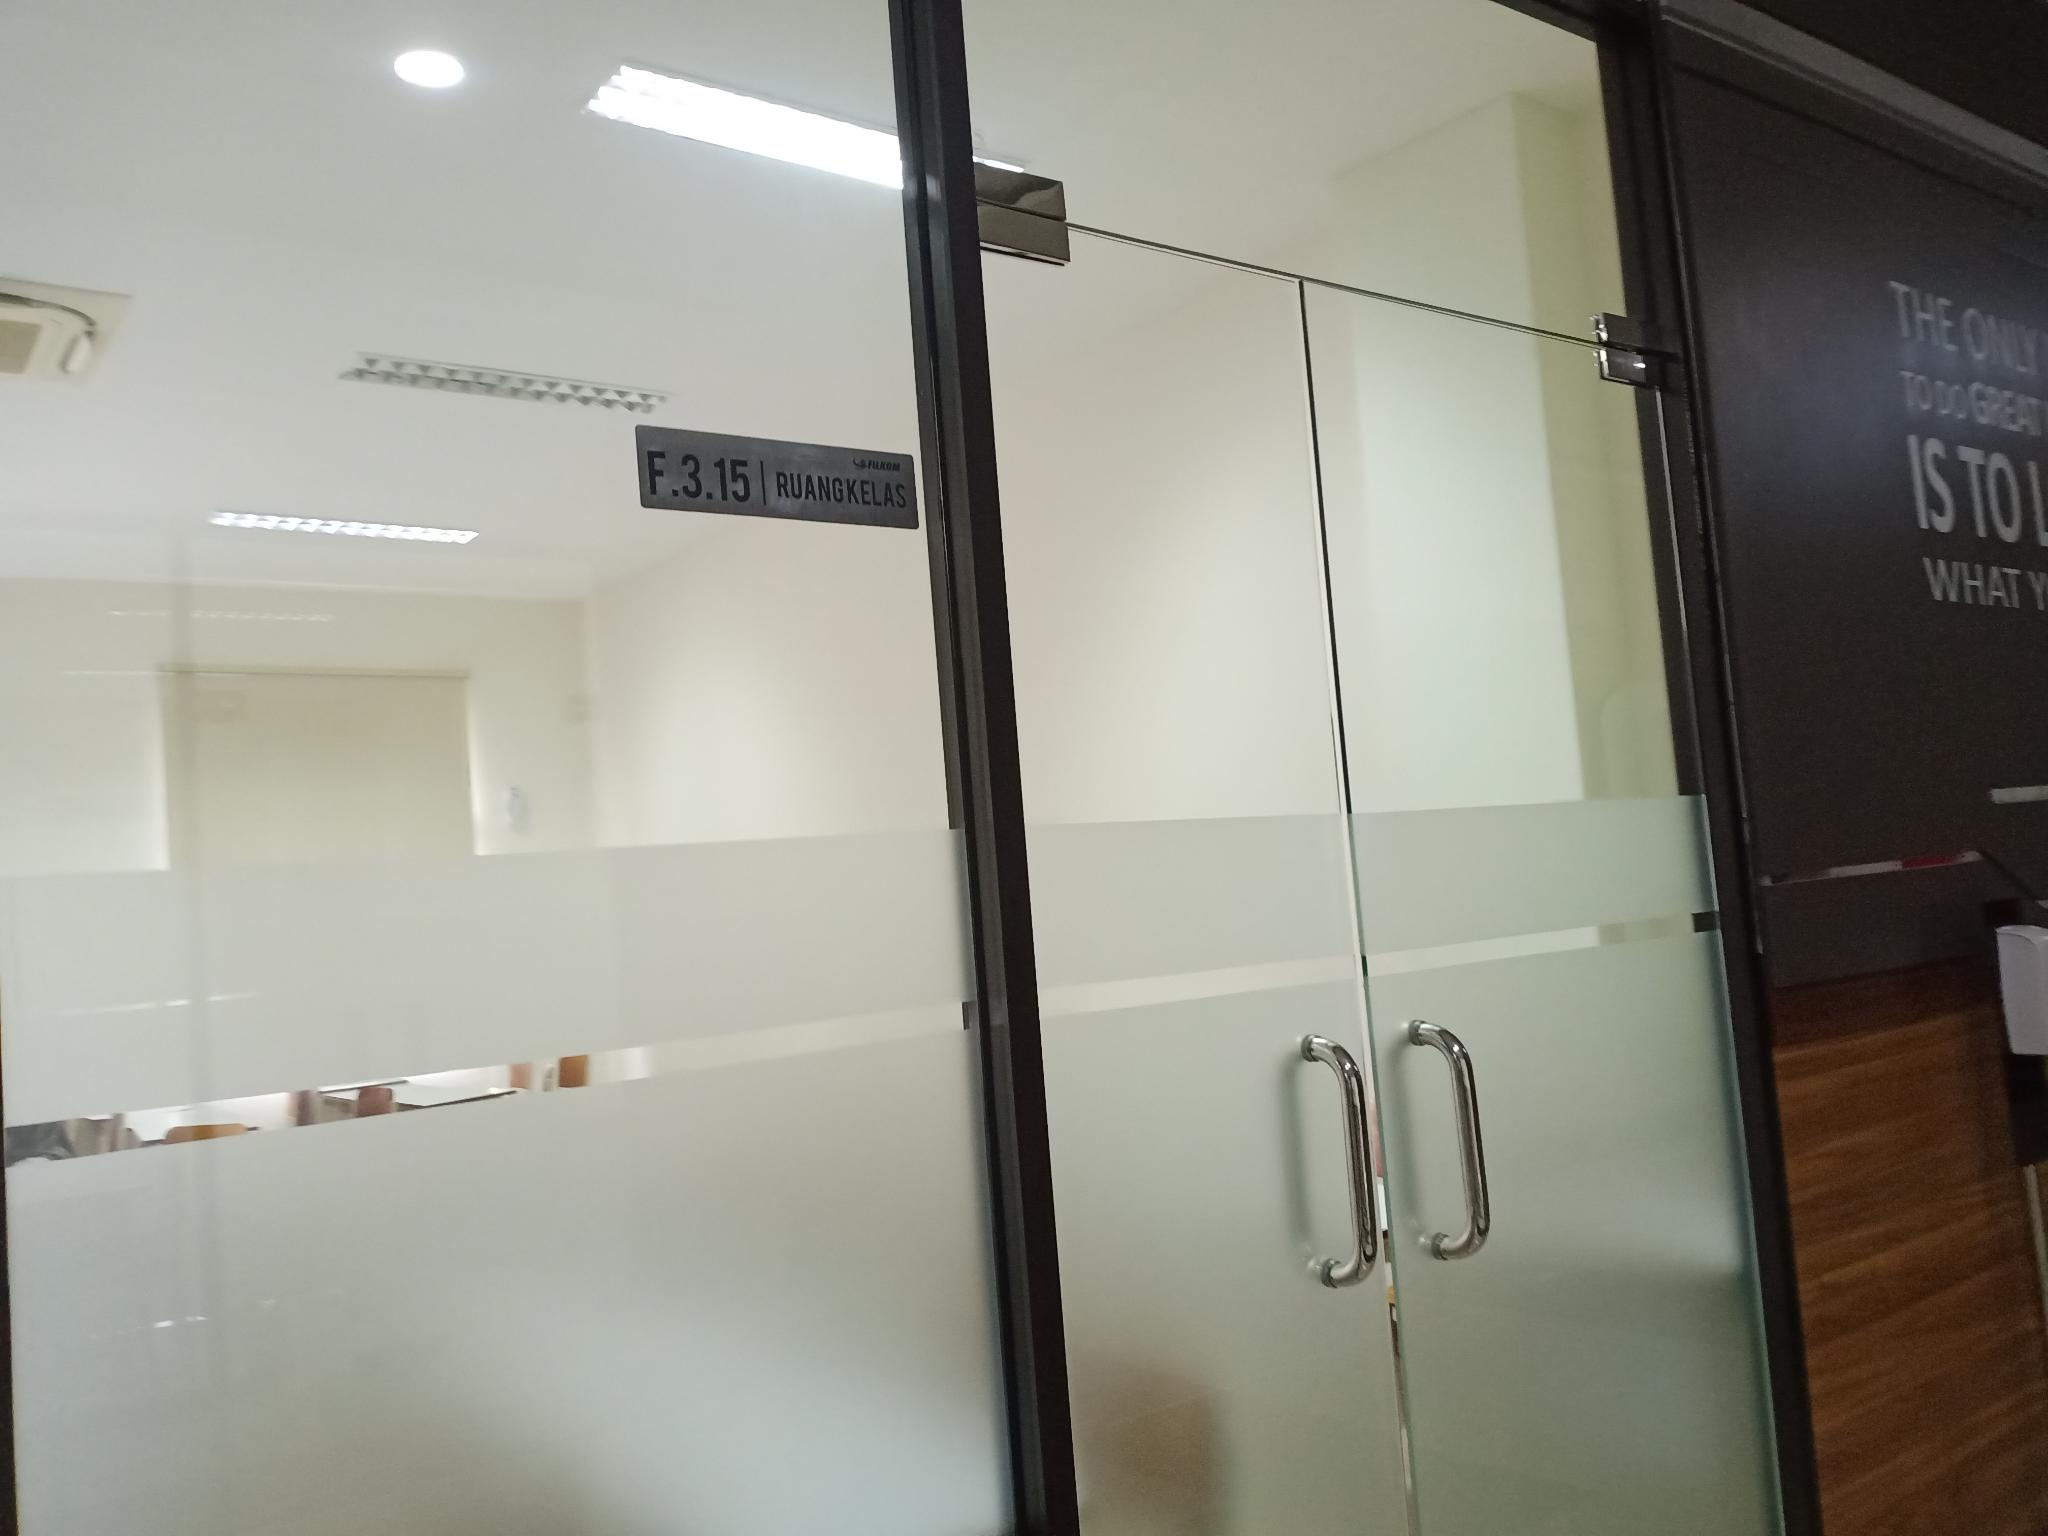plate: (637, 423, 921, 528)
